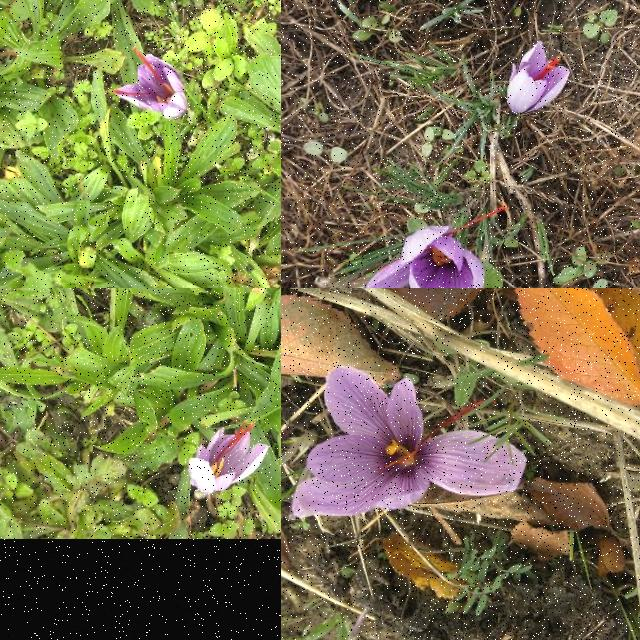flower: (293, 366, 527, 516), (365, 204, 508, 288), (188, 422, 270, 496), (111, 46, 189, 120), (507, 42, 571, 114)
